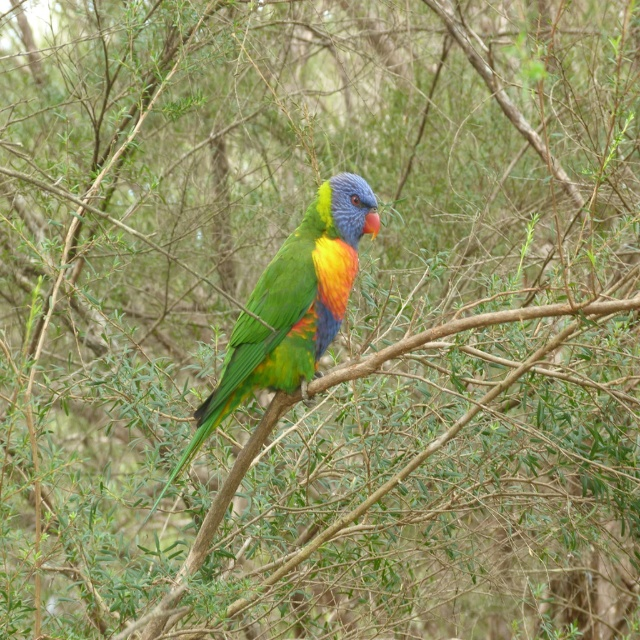Parrot: (146, 170, 380, 522)
